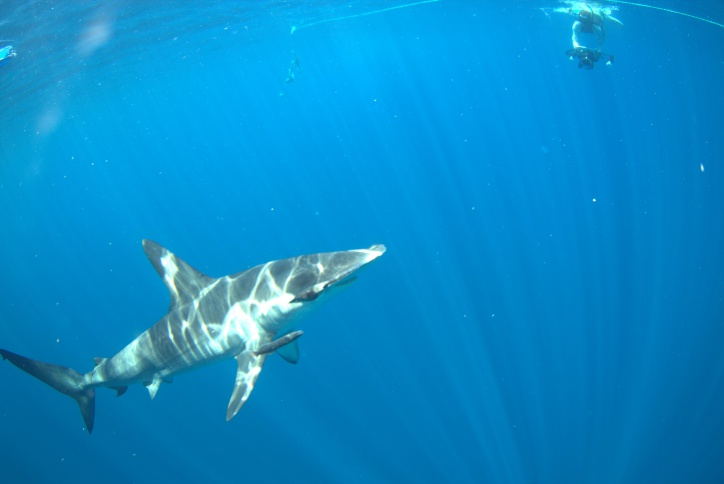Hammer: (1, 210, 429, 458)
